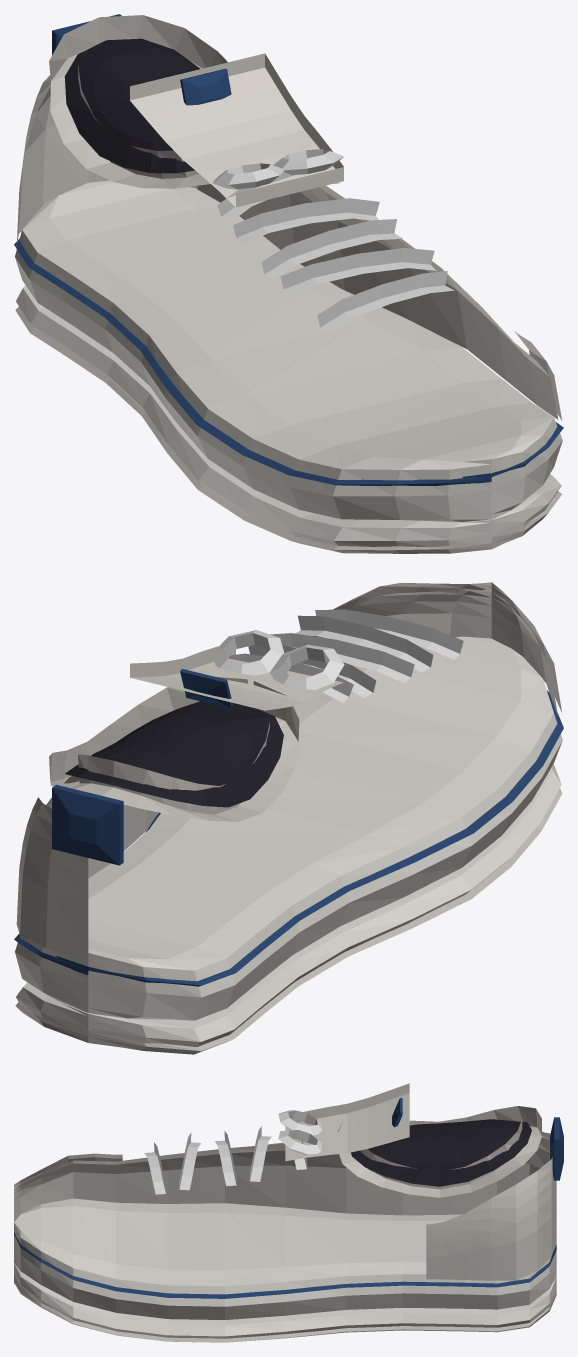
The model's file is starter_canvas.glb.
3 renders of one model, top to bottom at view 1: azimuth 30°, elevation 25°; view 2: azimuth 150°, elevation 25°; view 3: azimuth 270°, elevation 25°, orthographic. The views are drawn at different scales.
Bounding box in the file's own units: 0.1231 × 0.1242 × 0.3143.
